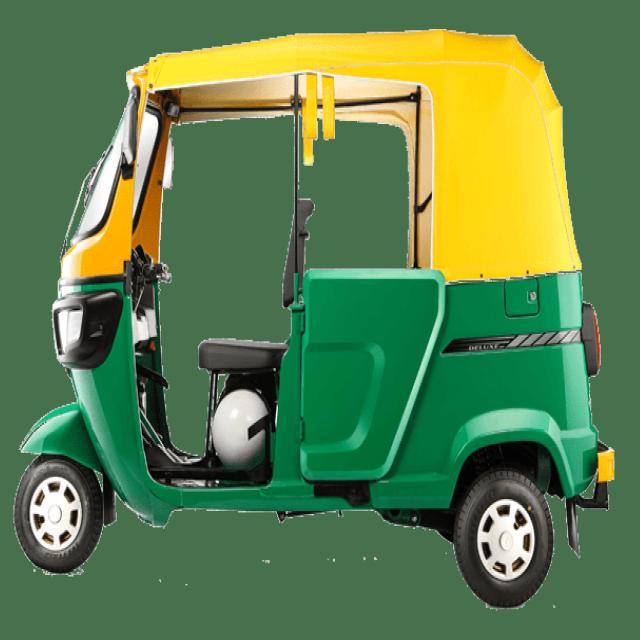autorickshaw: (11, 30, 615, 614)
